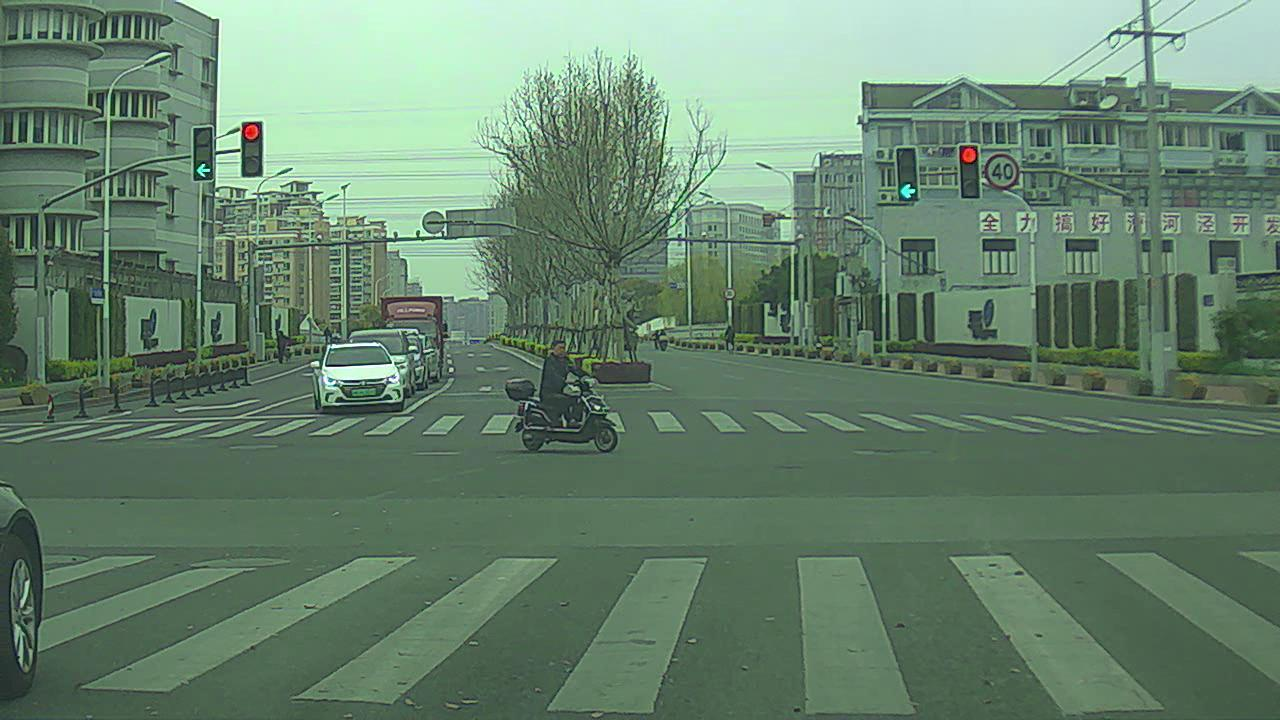traffic_light: (191, 122, 219, 182), (894, 147, 922, 204), (959, 144, 984, 199), (242, 122, 263, 177)
